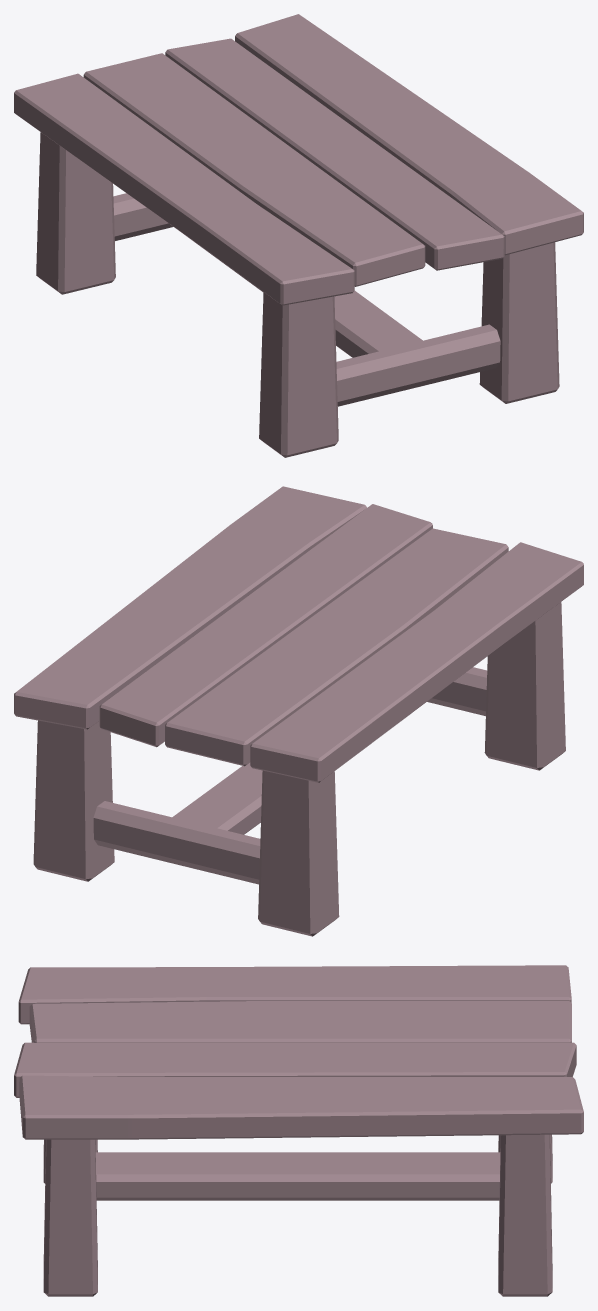
File: table.fbx
The picture shows the model from 3 angles, top to bottom: view 1: azimuth 30°, elevation 25°; view 2: azimuth 150°, elevation 25°; view 3: azimuth 270°, elevation 25°; orthographic projection.
Parts seen in each view (by area): view 1: table; view 2: table; view 3: table.
Boxes of the visible parts, x1,y1,x2,y2 form: table: (14, 14, 583, 457); table: (14, 486, 583, 936); table: (14, 965, 583, 1296).
Size of the model in its own units: 12.29 by 7.15 by 19.51.
